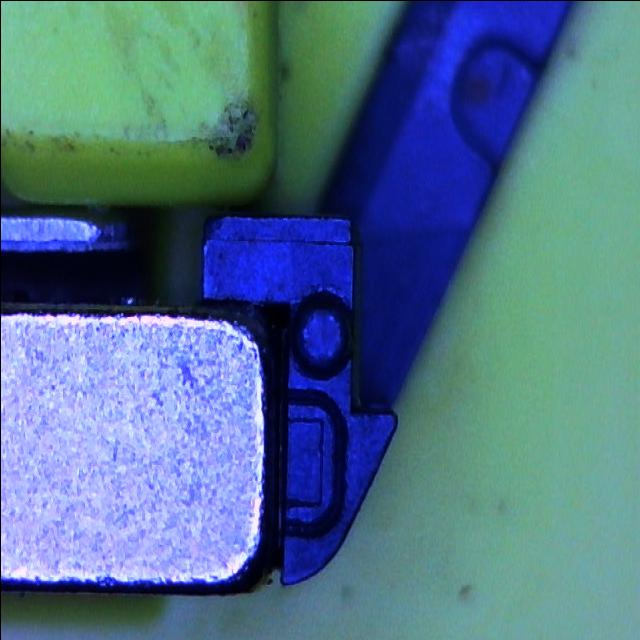lacking: (278, 388, 346, 538)
